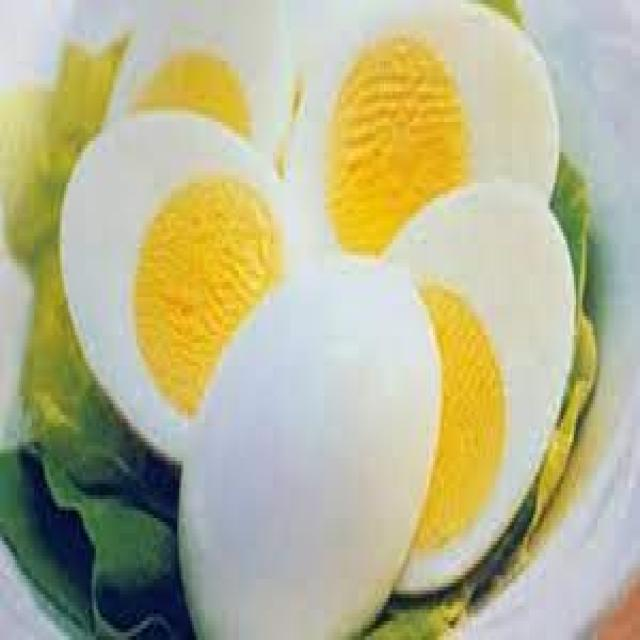telur rebus: (177, 267, 442, 640), (388, 179, 576, 606), (62, 118, 286, 453), (284, 8, 559, 259)
